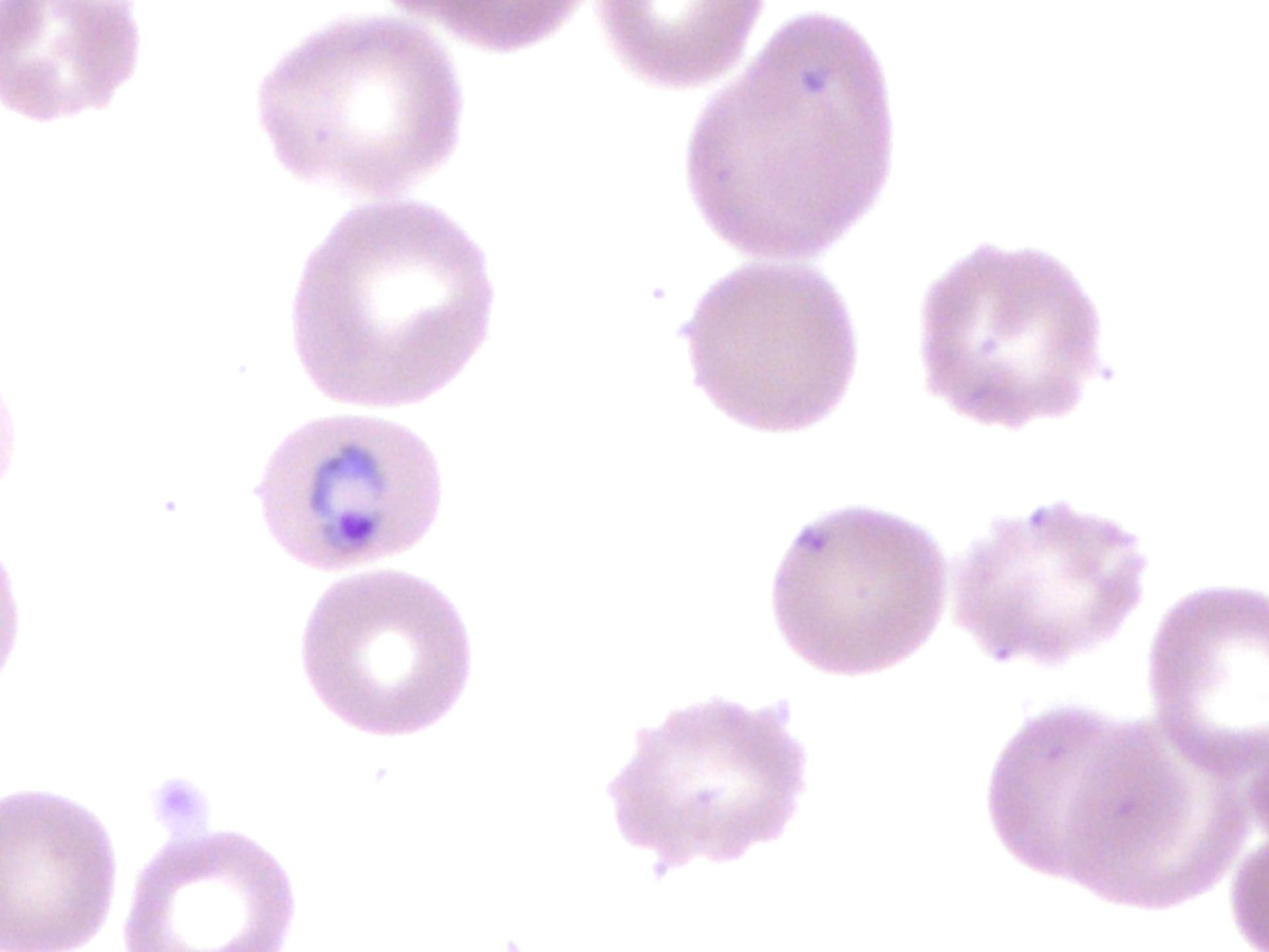Infected: (256, 413, 443, 568)
Uninfected: (687, 9, 894, 254), (291, 202, 493, 406), (1064, 715, 1253, 909), (259, 17, 465, 192), (919, 243, 1101, 428), (610, 697, 802, 870), (985, 712, 1186, 877), (953, 499, 1142, 661), (772, 509, 949, 675), (687, 261, 853, 432), (304, 575, 472, 737), (1147, 585, 1269, 782), (124, 829, 296, 952), (0, 795, 114, 952)
